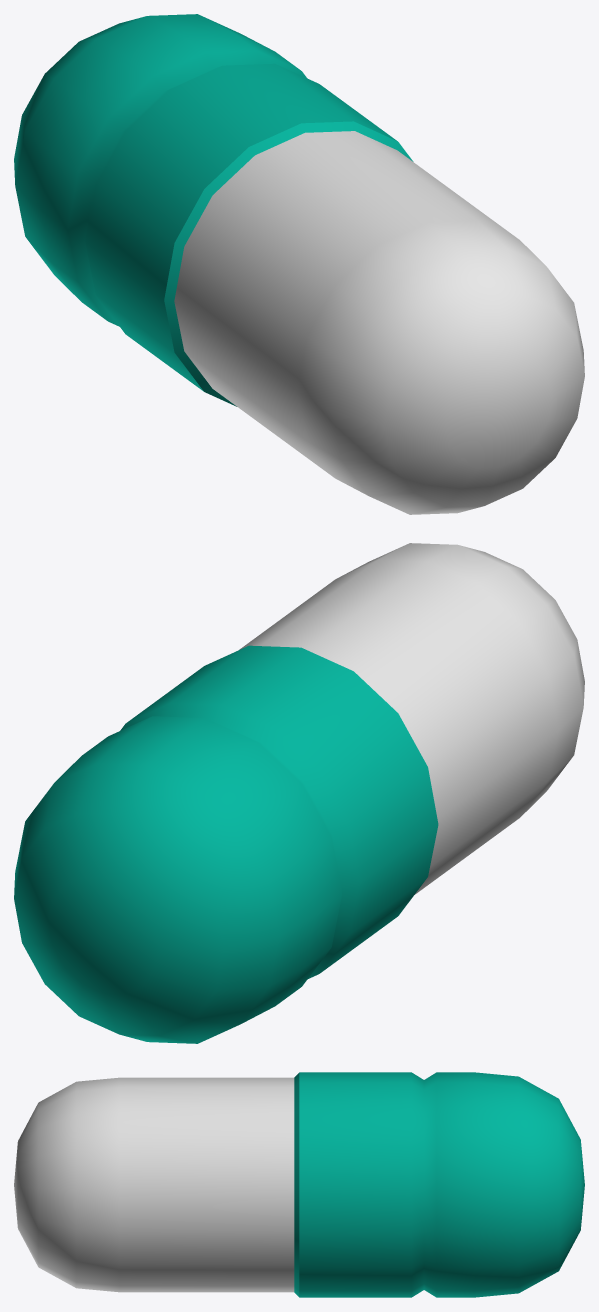
File: pill.fbx
The picture shows the model from 3 angles, top to bottom: view 1: azimuth 30°, elevation 25°; view 2: azimuth 150°, elevation 25°; view 3: azimuth 270°, elevation 25°; orthographic projection. The views are drawn at different scales.
Visible parts, largest first — view 1: Capsule 2 Var 1; view 2: Capsule 2 Var 1; view 3: Capsule 2 Var 1.
Boxes of the visible parts, x1=… form: Capsule 2 Var 1: x1=14, y1=14, x2=584, y2=514; Capsule 2 Var 1: x1=14, y1=543, x2=584, y2=1043; Capsule 2 Var 1: x1=14, y1=1072, x2=584, y2=1297.
Bounding box in the file's own units: 2.1 × 2.1 × 5.32.
